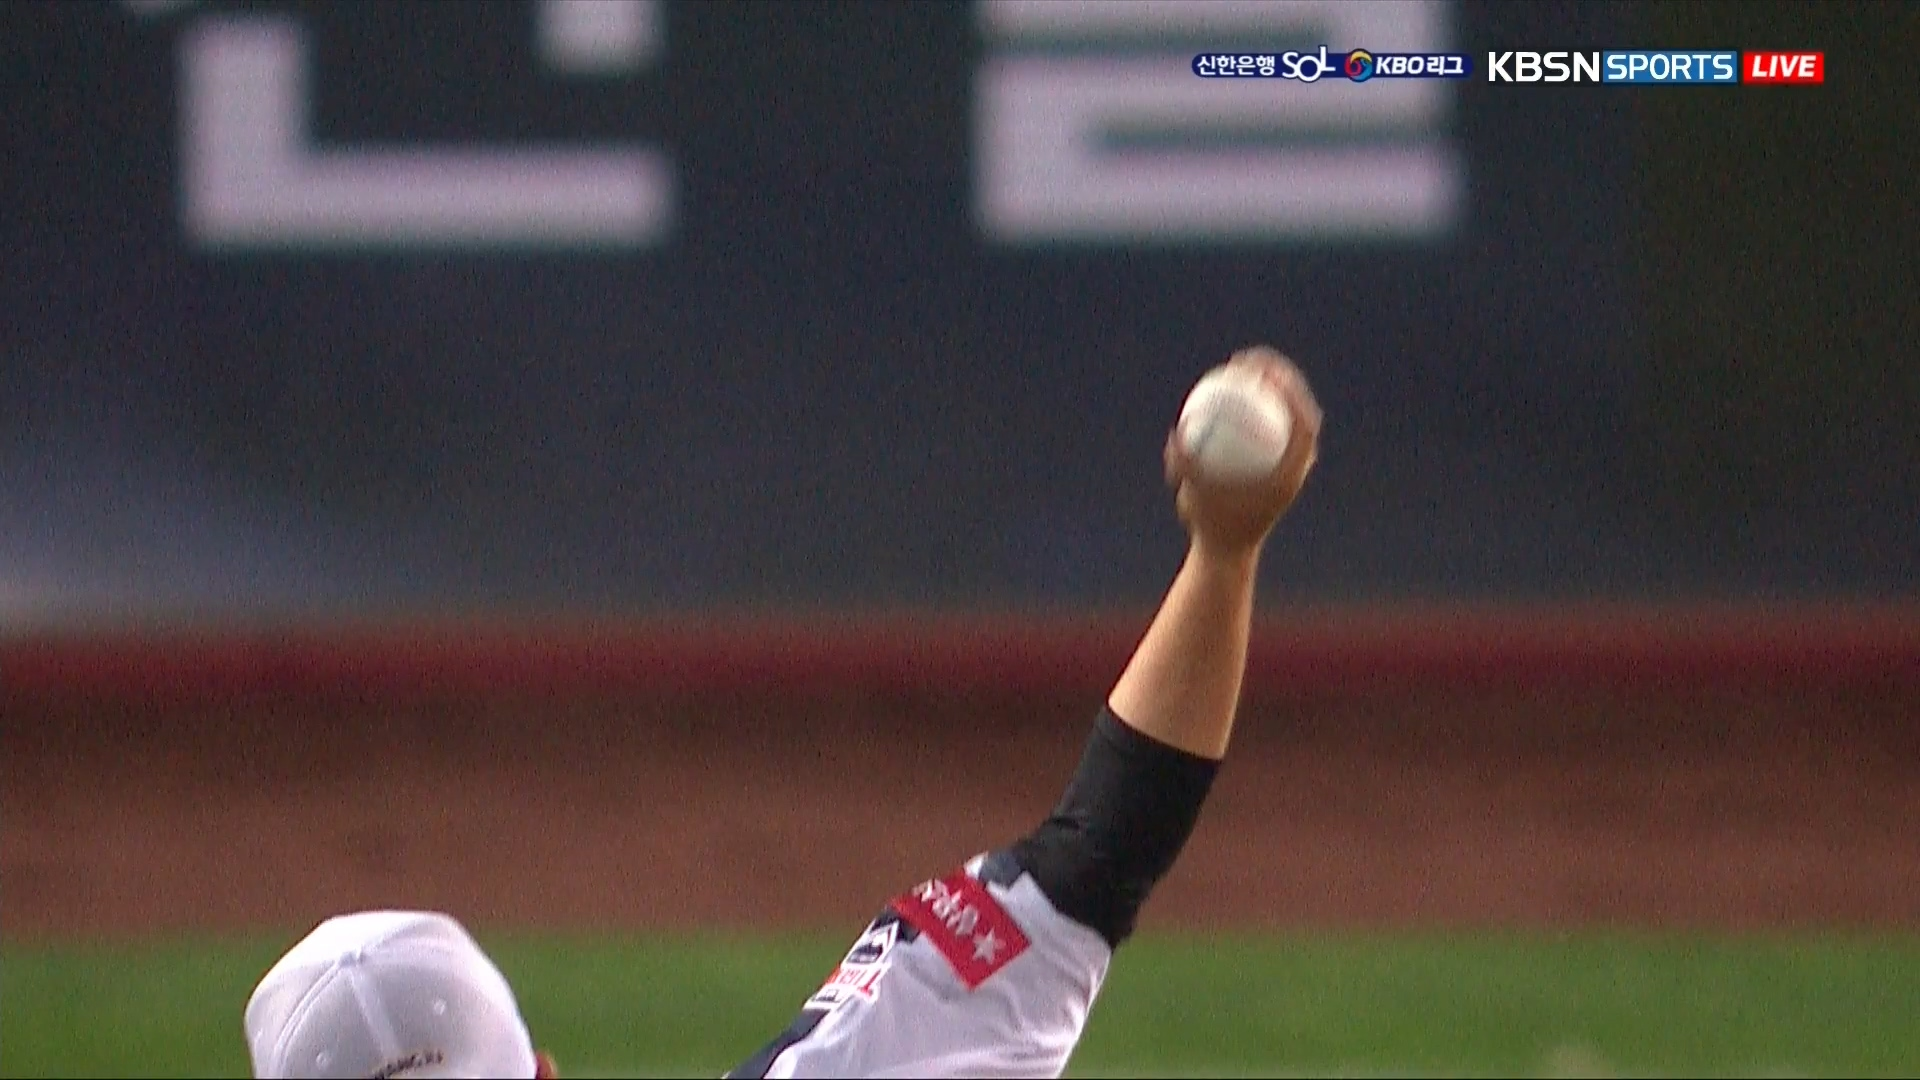zoomin_hand: (1059, 319, 1341, 920)
